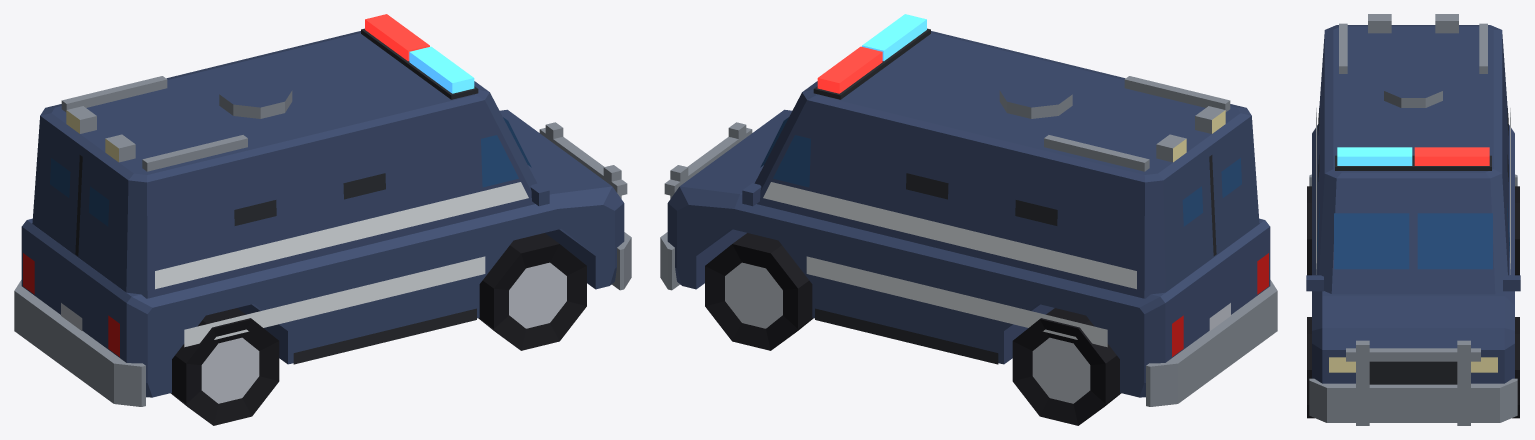
The model's file is swat_van.glb.
3 renders of one model, left to right at view 1: azimuth 30°, elevation 25°; view 2: azimuth 150°, elevation 25°; view 3: azimuth 270°, elevation 25°, orthographic. The views are drawn at different scales.
Parts seen in each view (by area): view 1: Body; view 2: Body; view 3: Body.
Part boxes in pixels (x1,y1,x2,y2): Body: (14,14,631,425); Body: (660,14,1277,425); Body: (1306,14,1520,425).
Size of the model in its own units: 0.624 by 0.304 by 0.254.
